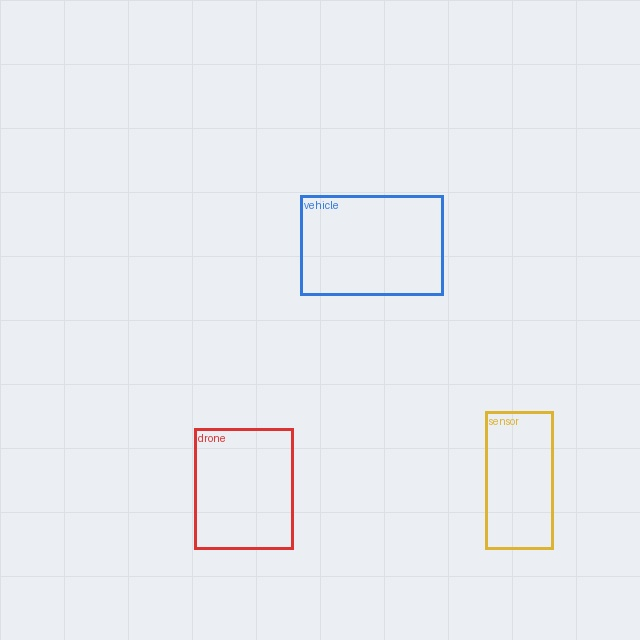drone: (194, 428, 293, 549)
sensor: (485, 411, 553, 549)
vehicle: (300, 195, 443, 295)
